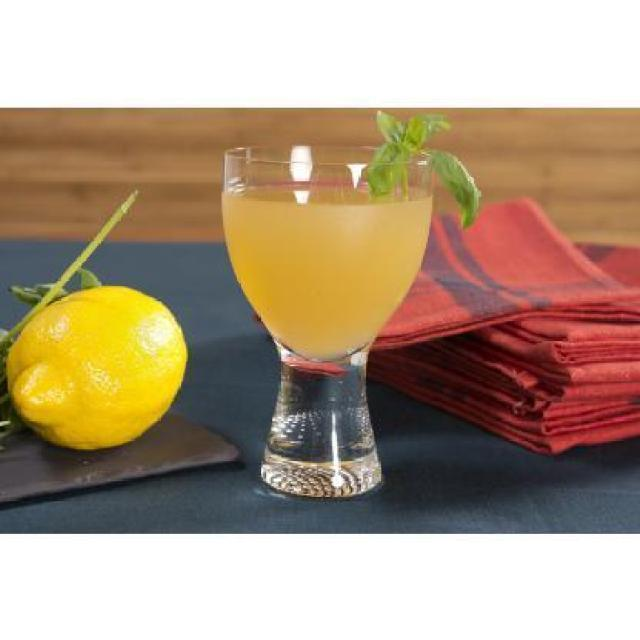Lemon: (5, 282, 186, 448)
